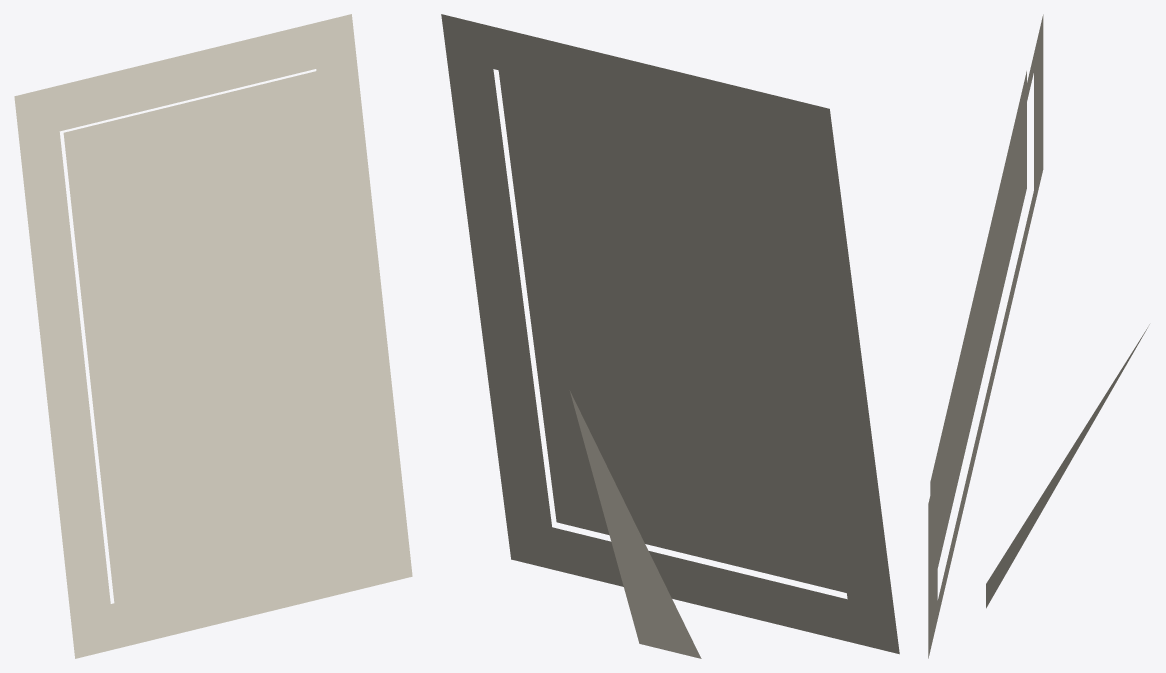
Rendered from AnhNho_Nhim3Tuoi.glb.
The picture shows the model from 3 angles, left to right: view 1: azimuth 30°, elevation 25°; view 2: azimuth 150°, elevation 25°; view 3: azimuth 270°, elevation 25°; orthographic projection. The views are drawn at different scales.
Visible parts, largest first — view 1: geometry_0; view 2: geometry_0; view 3: geometry_0.
Boxes of the visible parts, <box> form: geometry_0: <box>14,14,412,658</box>; geometry_0: <box>441,14,899,658</box>; geometry_0: <box>928,14,1149,658</box>.
Bounding box in the file's own units: 0.1 × 0.1514 × 0.0606.
